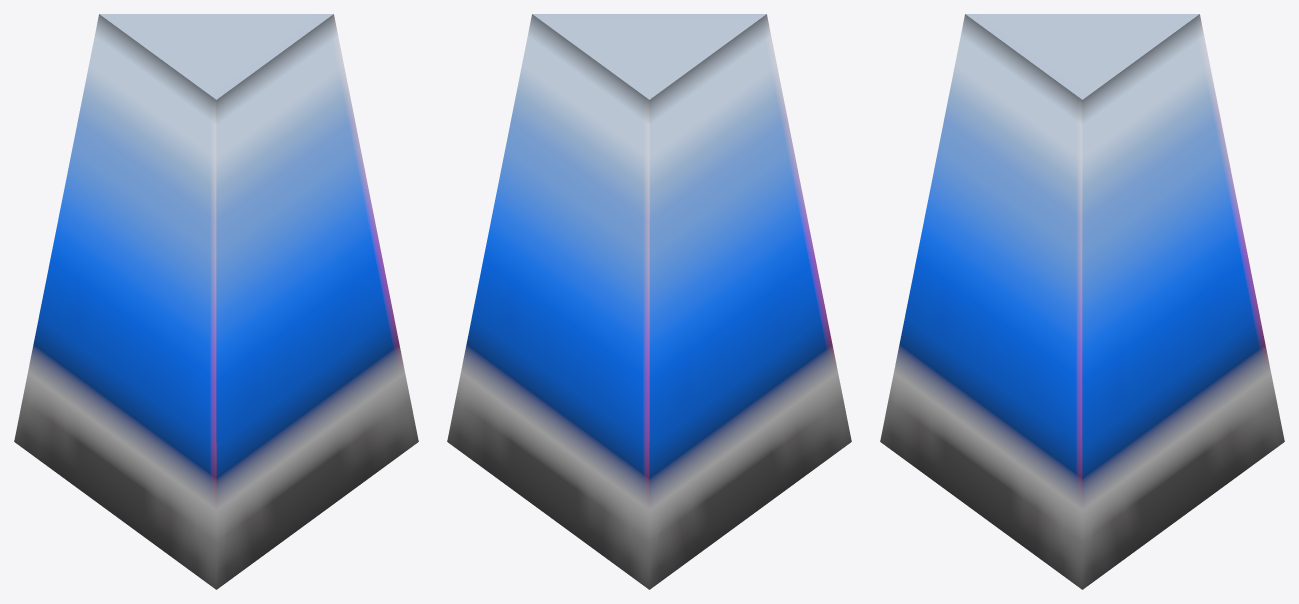
The model's file is bluebeaconlight.glb.
3 views of the same model, side by side, from view 1: azimuth 30°, elevation 25°; view 2: azimuth 150°, elevation 25°; view 3: azimuth 270°, elevation 25° (orthographic).
Visible parts, largest first — view 1: Cylinder01; view 2: Cylinder01; view 3: Cylinder01.
Boxes of the visible parts, box(x1,y1,x2,y2) form: Cylinder01: box(14, 14, 418, 589); Cylinder01: box(447, 14, 851, 589); Cylinder01: box(880, 14, 1284, 589).
Size of the model in its own units: 0.4029 by 0.569 by 0.4653.
1 material, 1 textured.
